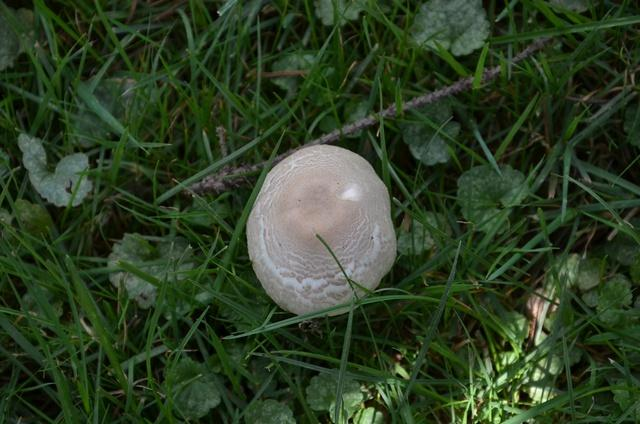poisonous_mushroom: (244, 142, 397, 318)
